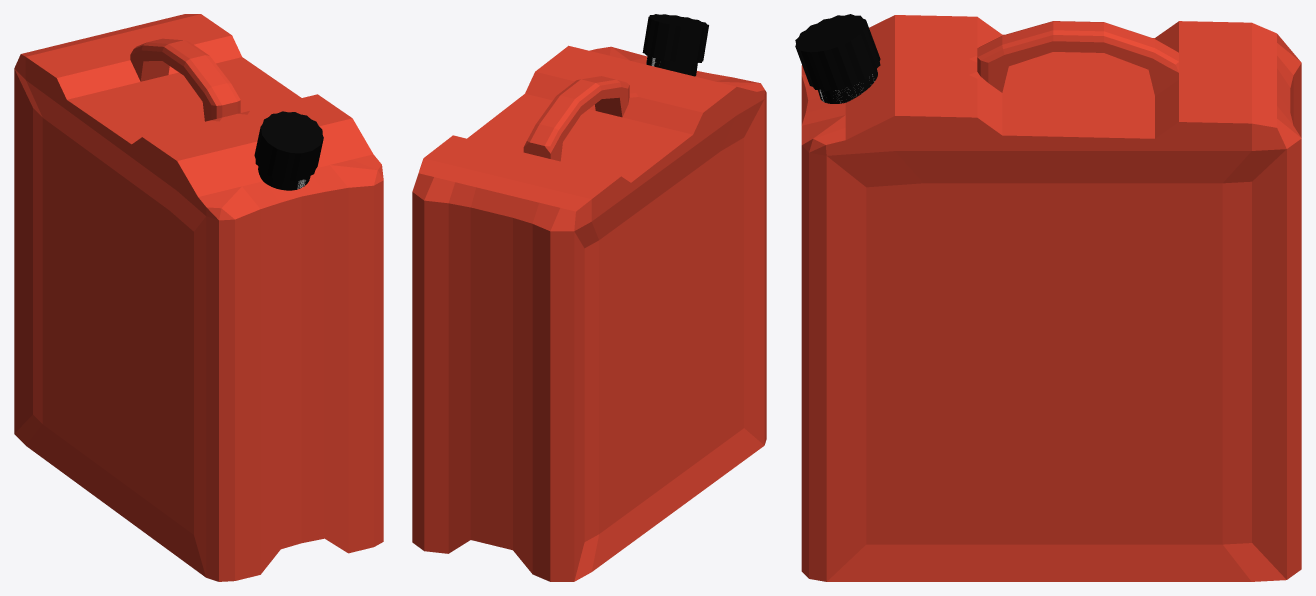
Rendered from Fuel.fbx.
3 views of the same model, side by side, from view 1: azimuth 30°, elevation 25°; view 2: azimuth 150°, elevation 25°; view 3: azimuth 270°, elevation 25° (orthographic). The views are drawn at different scales.
Visible parts, largest first — view 1: Bidon; view 2: Bidon; view 3: Bidon.
Boxes of the visible parts, <box> form: Bidon: <box>14,14,383,581</box>; Bidon: <box>412,14,766,581</box>; Bidon: <box>795,14,1301,581</box>.
Size of the model in its own units: 206 by 228 by 97.09.
